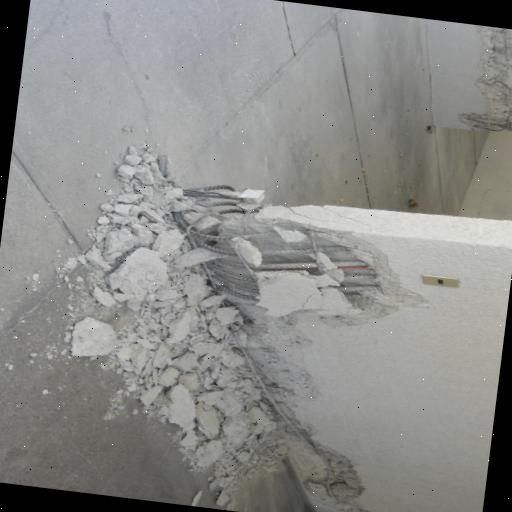spalling: (160, 187, 422, 509), (459, 25, 512, 132)
